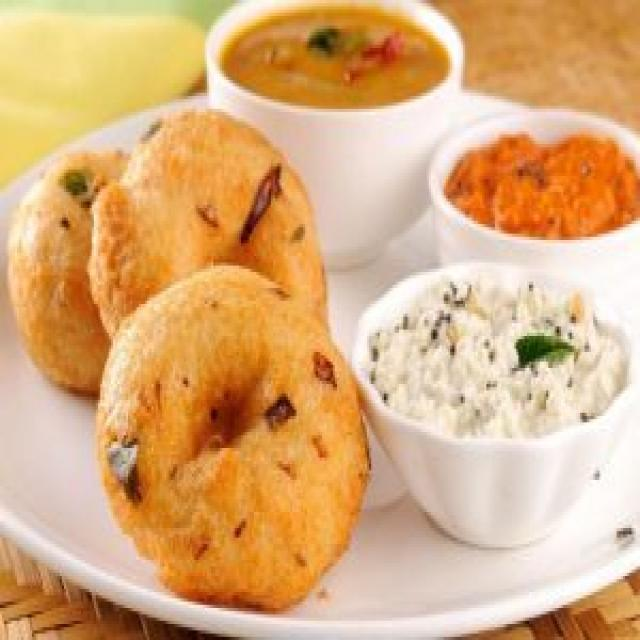RED CHUTNEY: (445, 137, 638, 241)
SAMBAR: (225, 3, 452, 112)
VADA: (5, 96, 379, 617)
WHITE CHUTNEY: (370, 274, 624, 443)
